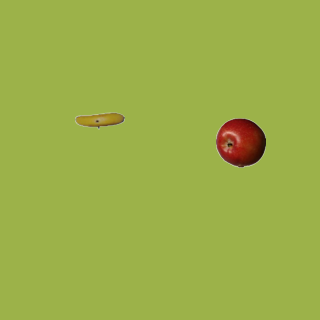Apple Braeburn: (215, 117, 265, 167)
Banana: (74, 95, 124, 145)
